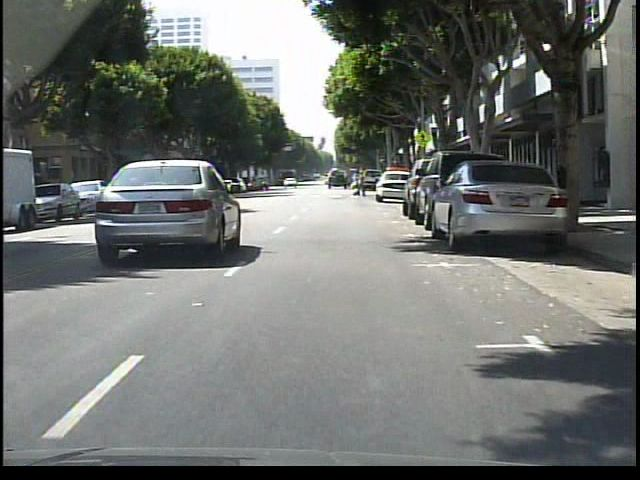car: (95, 155, 242, 270), (433, 155, 588, 253), (35, 180, 82, 223), (372, 167, 405, 203)
